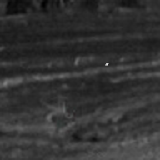Target: (104, 62, 109, 66)
